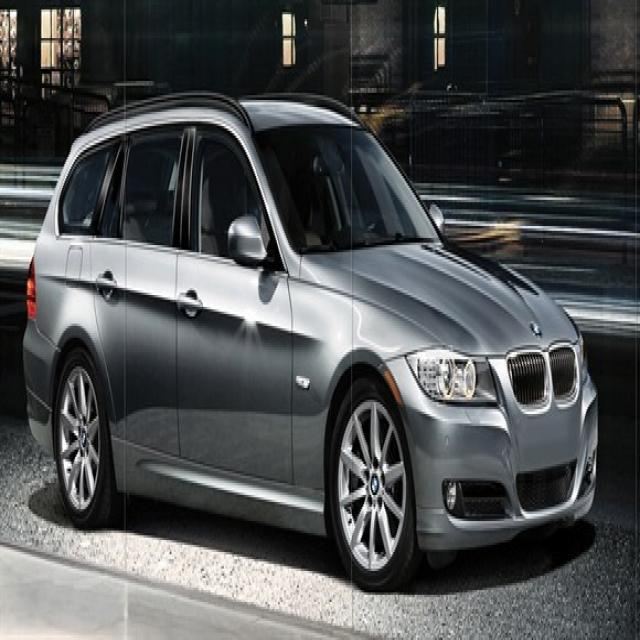car: (19, 92, 594, 588)
